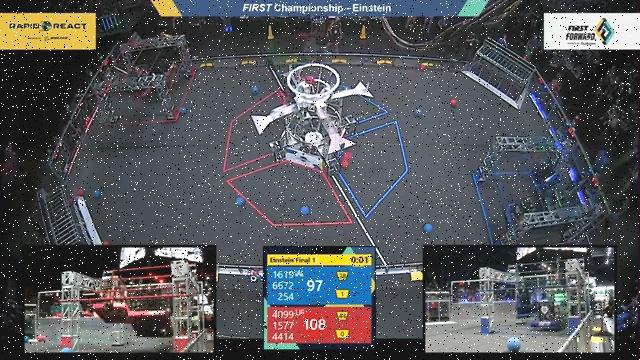Robot: (540, 183, 589, 228), (520, 145, 564, 191), (110, 55, 151, 99), (499, 191, 539, 233), (140, 47, 181, 85)
